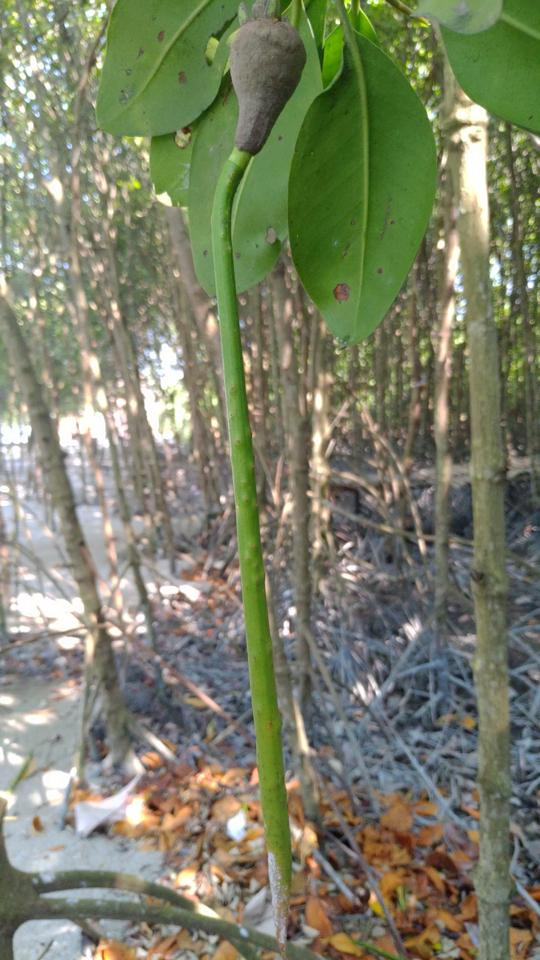setengah matang: (208, 6, 330, 956)
